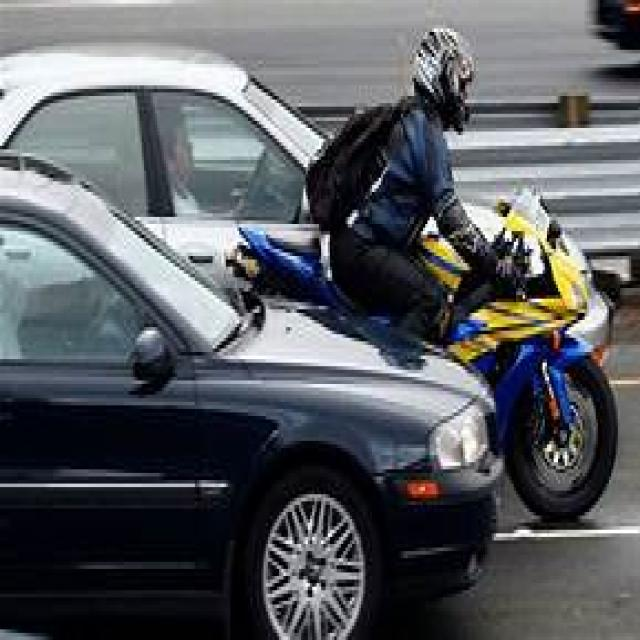Car: (0, 46, 502, 637)
Two Wheeler: (421, 209, 616, 519), (240, 227, 360, 334)
